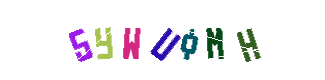5: (54, 0, 134, 80)
H: (190, 0, 270, 80)
M: (149, 0, 229, 80)
O: (124, 0, 204, 80)
U: (122, 0, 202, 80)
W: (108, 0, 188, 80)
Y: (91, 0, 171, 80)
